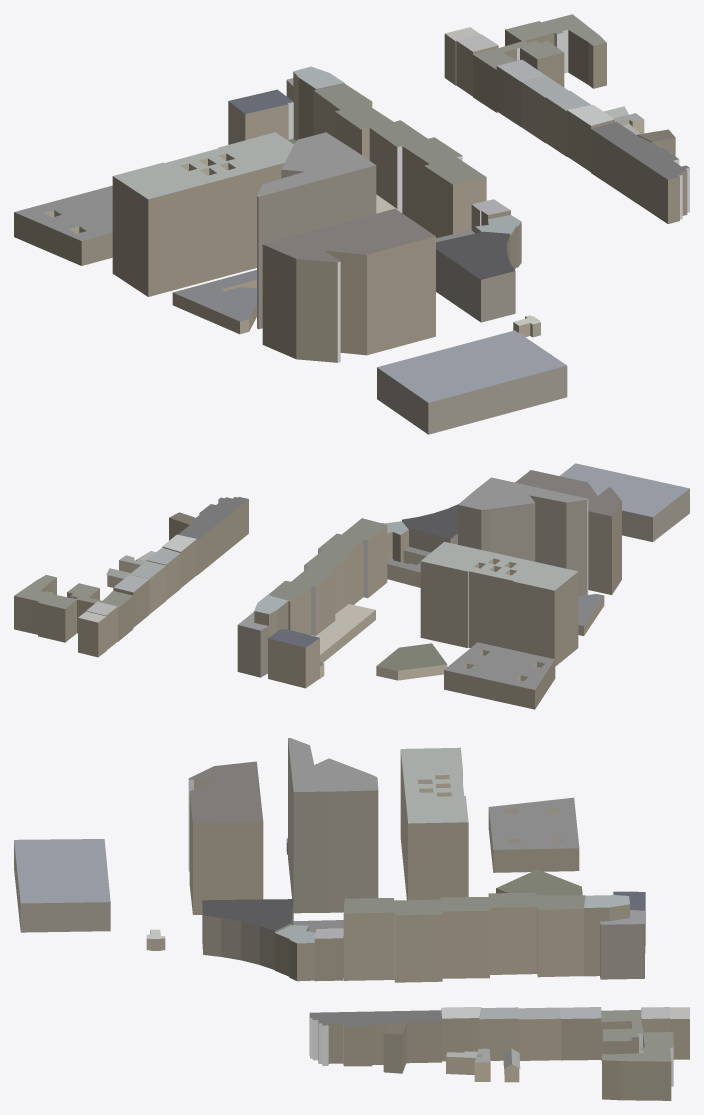
3 views of the same model, one above another, from view 1: azimuth 30°, elevation 25°; view 2: azimuth 150°, elevation 25°; view 3: azimuth 270°, elevation 25° (orthographic). The views are drawn at different scales.
Visible parts, largest first — view 1: tuile; view 2: tuile; view 3: tuile.
Part boxes in pixels (x1,y1,x2,y2): tuile: (14,14,689,434); tuile: (14,463,689,709); tuile: (14,738,689,1100).
Bounding box in the file's own units: 259 × 57.06 × 271.
